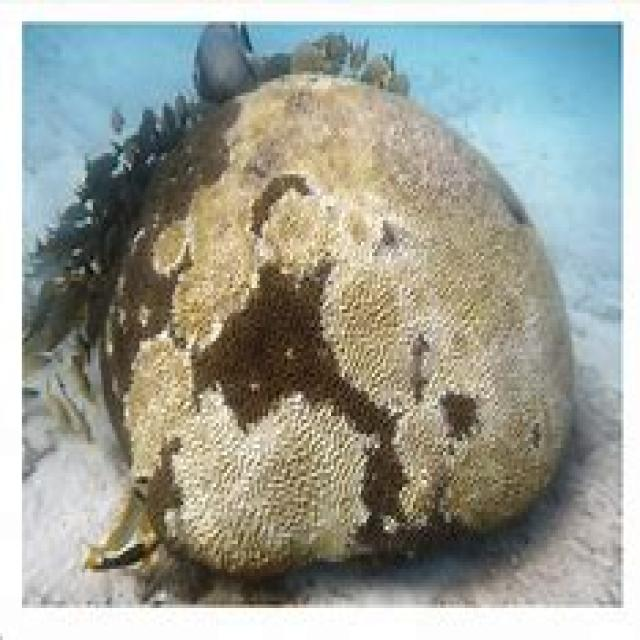Coral: (98, 73, 576, 578)
